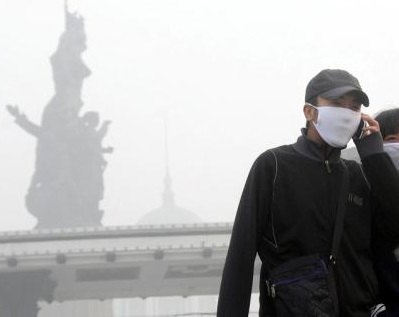person: (217, 66, 399, 313), (364, 107, 399, 317)
